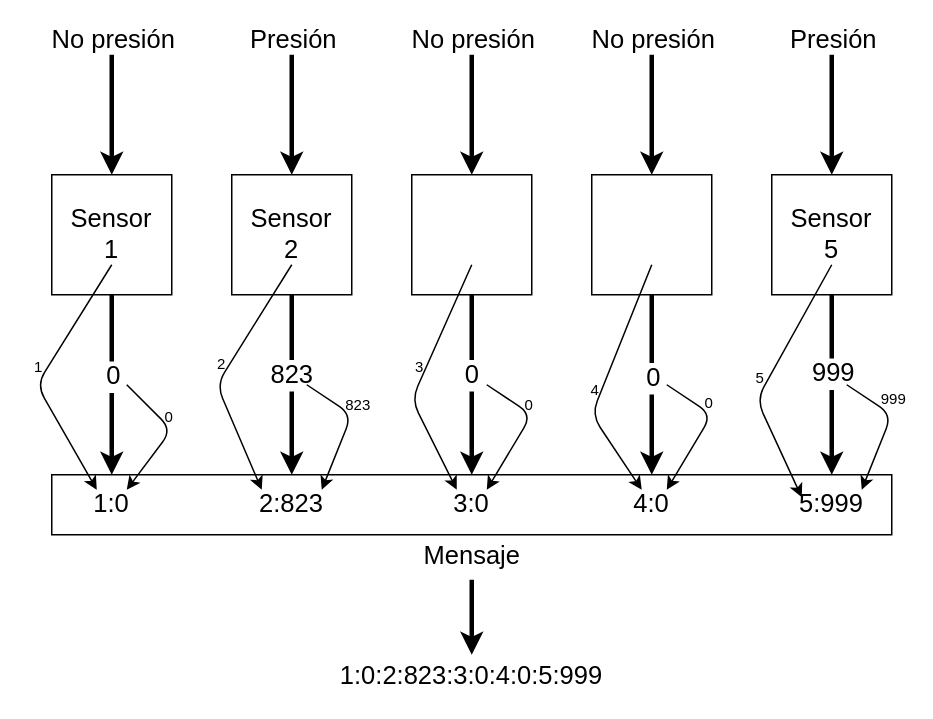
This 933x719 diagram has some shape labels left out. The shapes that lost their labels are listed below. From the top down, each one's centre as x and y in pixels, then its label:
the point at 471,234: Sensor 3
the point at 651,234: Sensor 4
